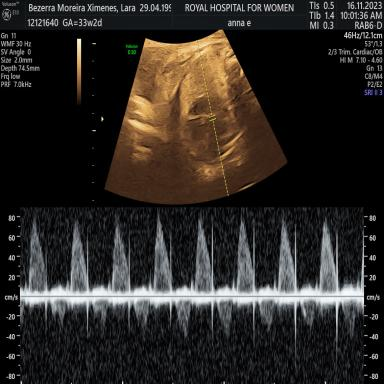Ultrasound-Waves: (28, 208, 360, 384)
